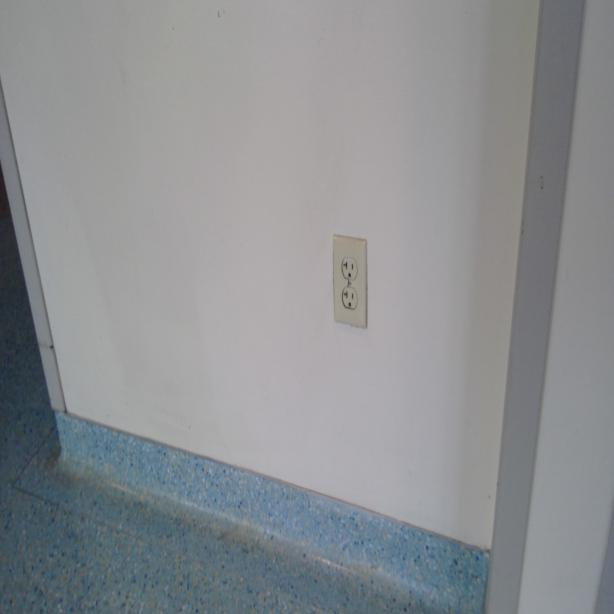typeb: (342, 285, 358, 311), (342, 255, 357, 280)
